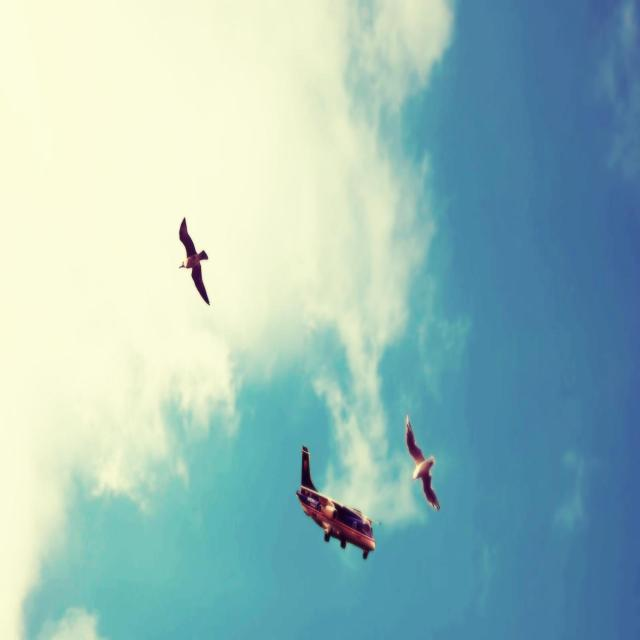airplane: (295, 444, 376, 560)
